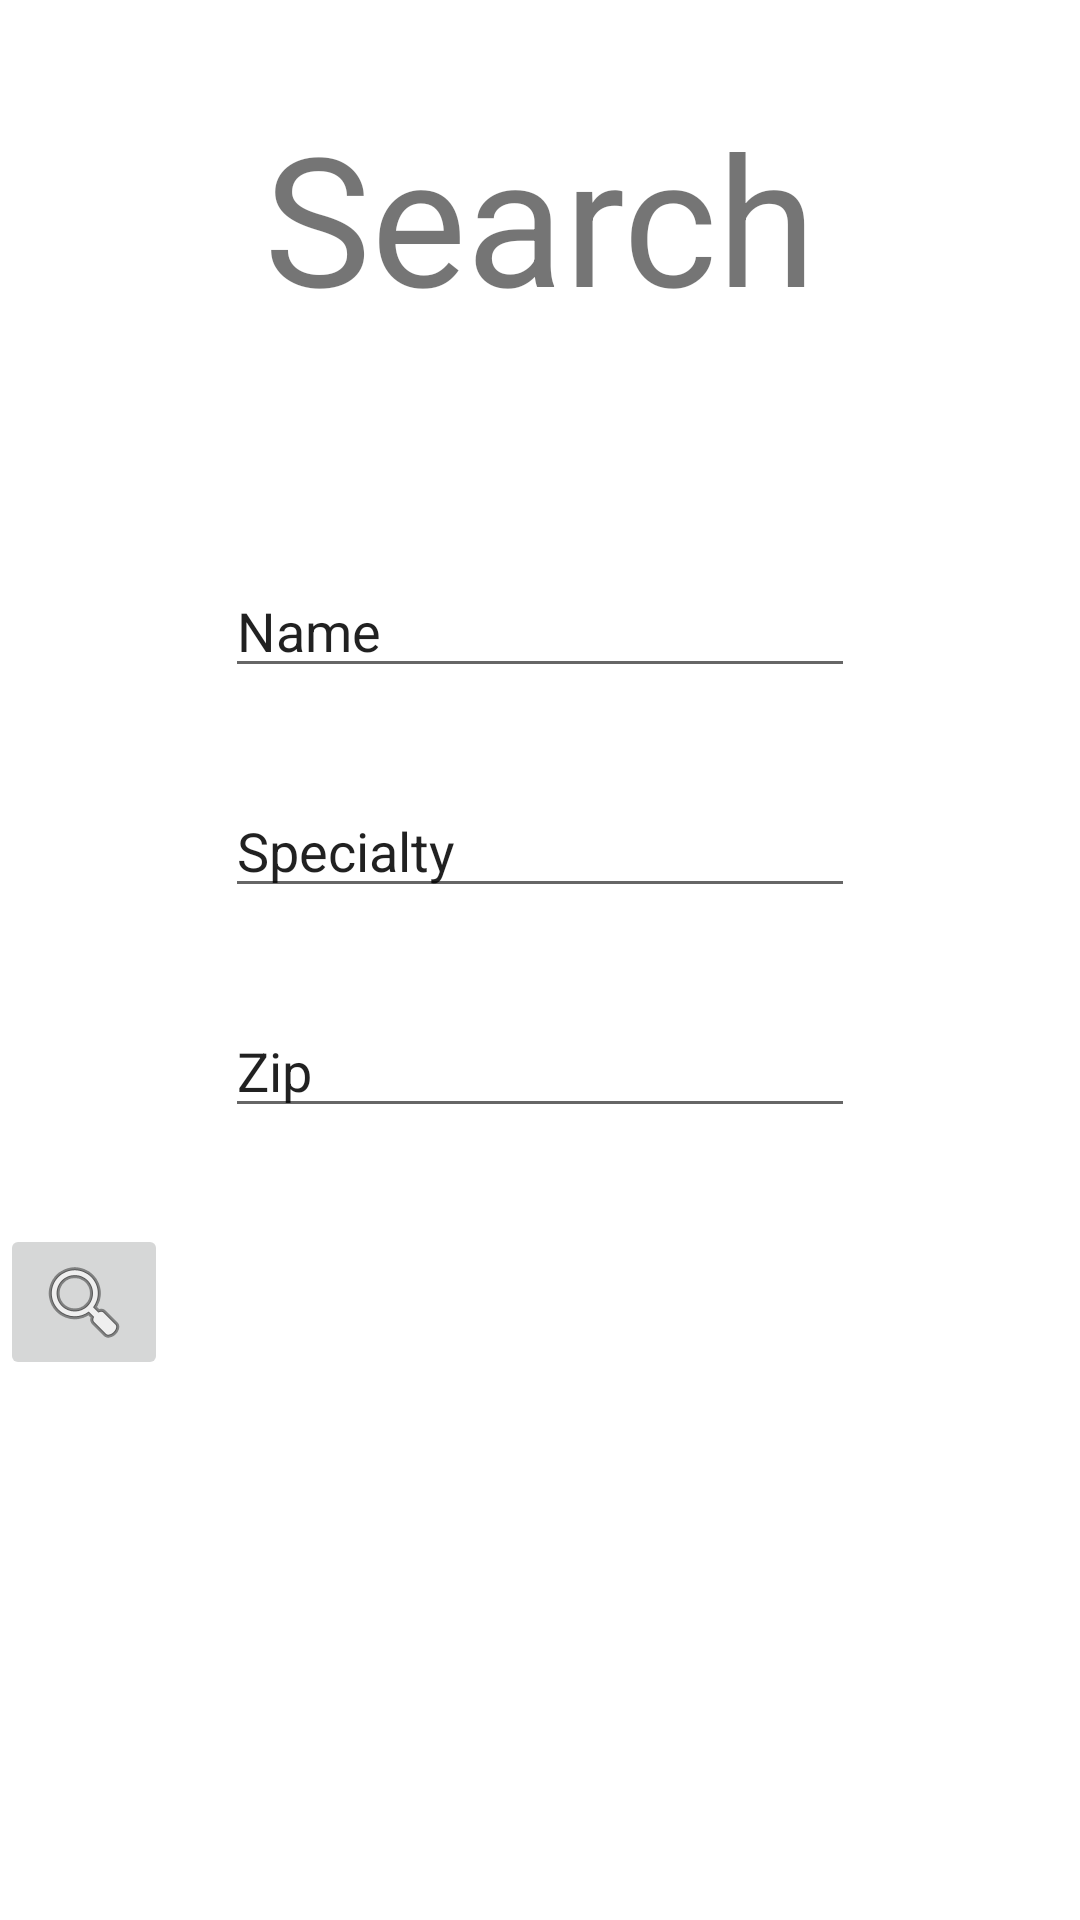

Named icons in this screenshot (1080px×1920px) and their centers, (x=x, y=y):
search: (x=84, y=1302)
